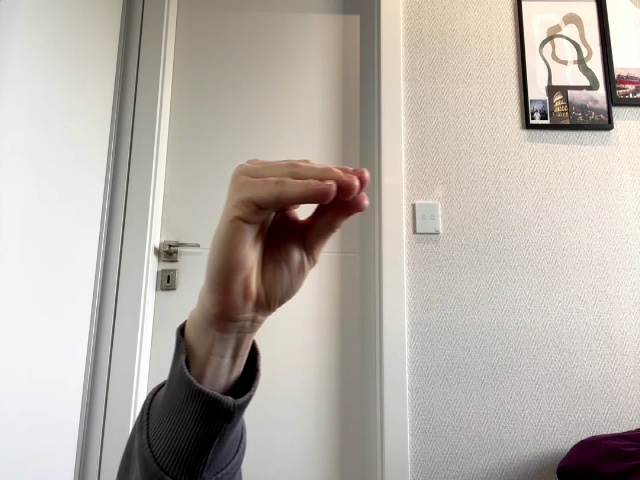E: (208, 159, 369, 317)
